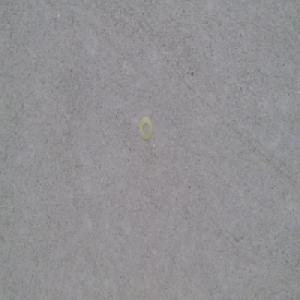Washer: (137, 116, 151, 143)
